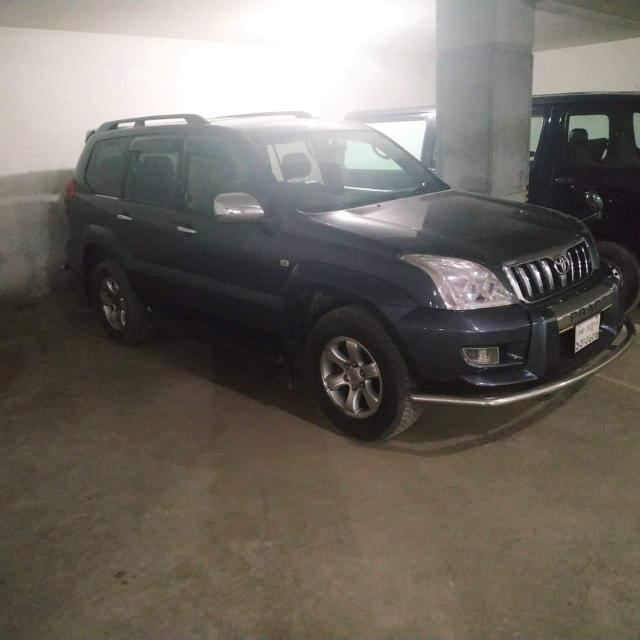black: (67, 109, 640, 435)
